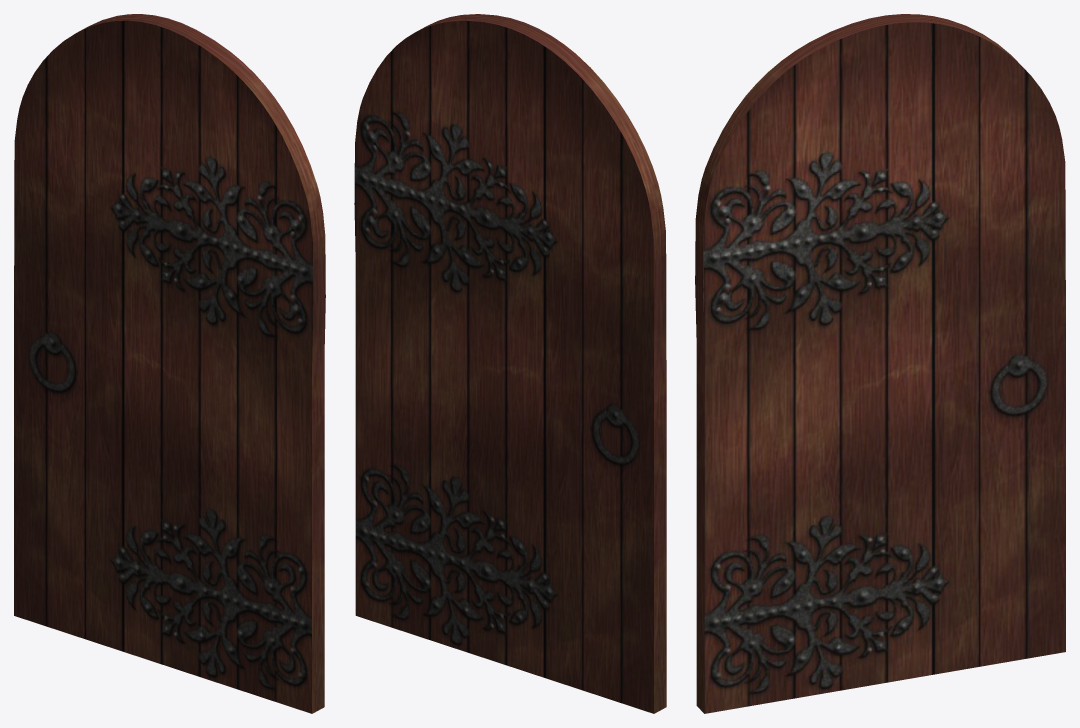
File: door 20.obj
The picture shows the model from 3 angles, left to right: view 1: azimuth 30°, elevation 25°; view 2: azimuth 210°, elevation 25°; view 3: azimuth 270°, elevation 25°; orthographic projection. The views are drawn at different scales.
Parts seen in each view (by area): view 1: door_10:Mesh; view 2: door_10:Mesh; view 3: door_10:Mesh.
Part boxes in pixels (box(x1,y1,x2,y2)): door_10:Mesh: box(14, 14, 325, 713); door_10:Mesh: box(354, 14, 666, 713); door_10:Mesh: box(695, 14, 1065, 713).
Bounding box in the file's own units: 27.49 × 120 × 61.21.
1 material, 1 textured.
